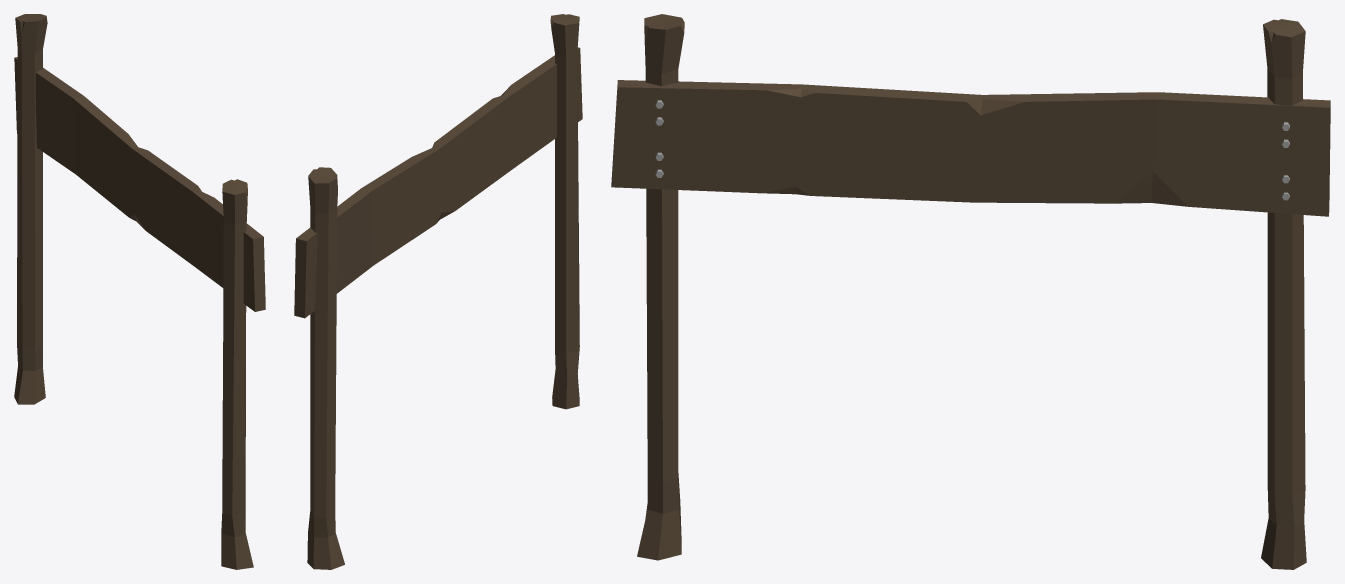
The model's file is M_entrance.fbx.
3 views of the same model, side by side, from view 1: azimuth 30°, elevation 25°; view 2: azimuth 150°, elevation 25°; view 3: azimuth 270°, elevation 25° (orthographic). The views are drawn at different scales.
Parts seen in each view (by area): view 1: entrance; view 2: entrance; view 3: entrance.
Part boxes in pixels (x1=…): entrance: x1=14, y1=14, x2=265, y2=569; entrance: x1=294, y1=14, x2=582, y2=569; entrance: x1=611, y1=14, x2=1330, y2=569.
Size of the model in its own units: 18.1 by 150 by 182.
